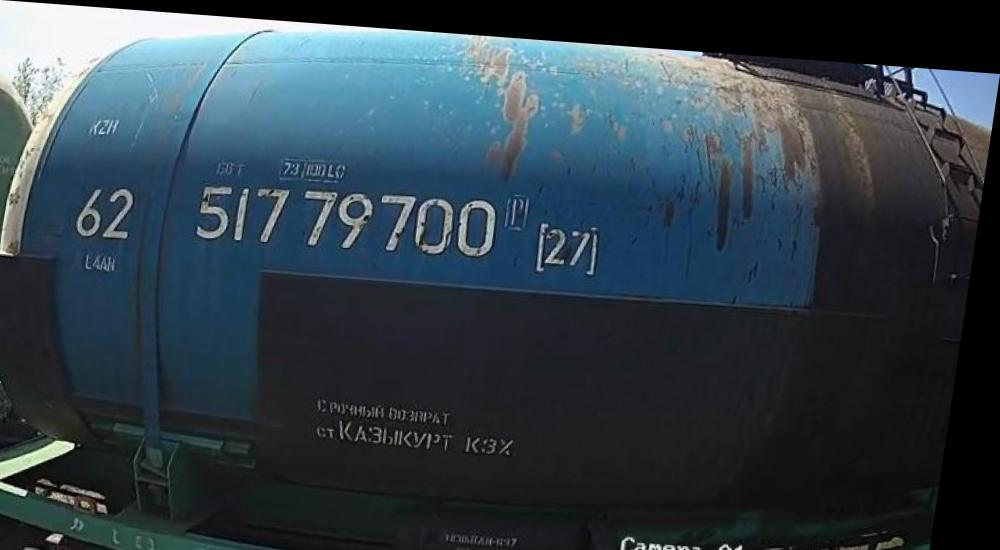Wagon-number: (197, 172, 510, 258)
